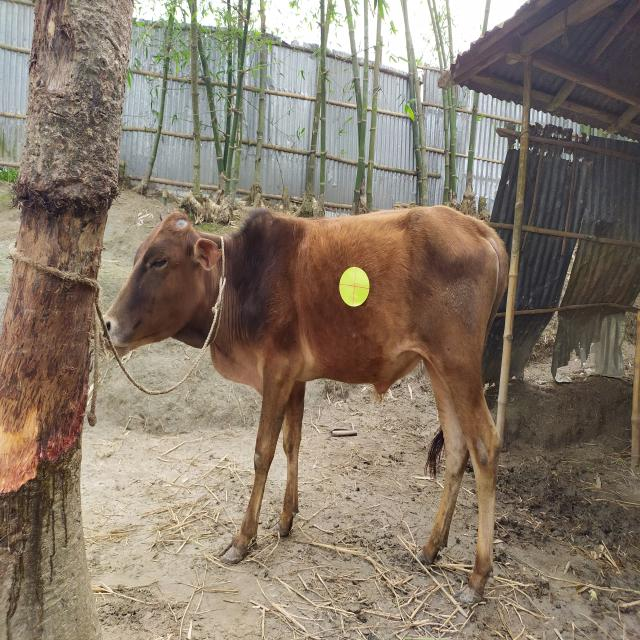badan_sapi: (251, 208, 498, 390)
sapi: (91, 197, 537, 600)
